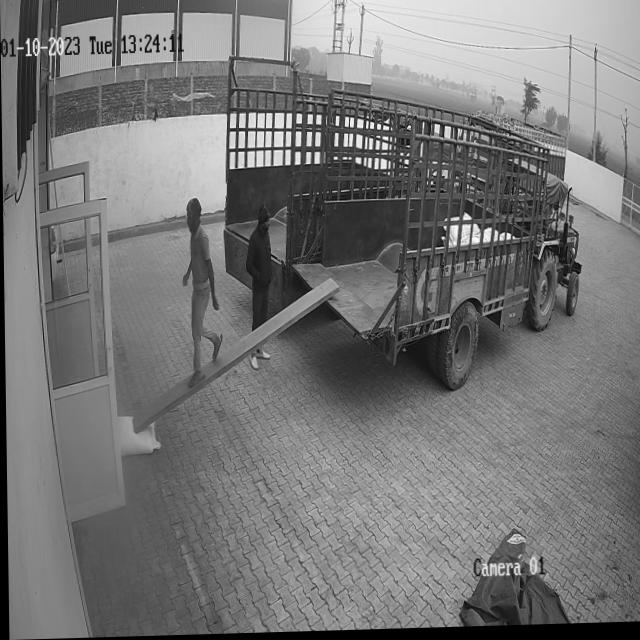sack: (116, 414, 157, 457)
